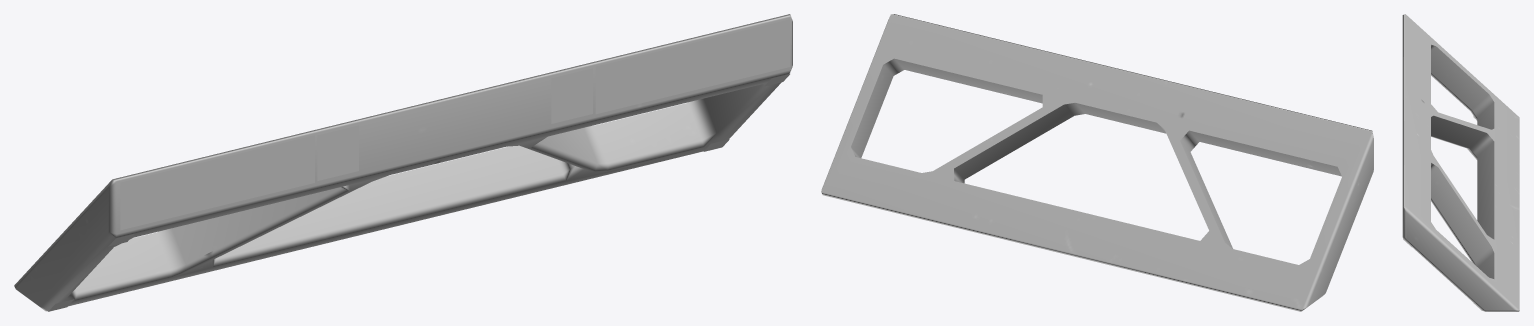
File: SM_WallGrid_Merged.fbx
The picture shows the model from 3 angles, left to right: view 1: azimuth 30°, elevation 25°; view 2: azimuth 150°, elevation 25°; view 3: azimuth 270°, elevation 25°; orthographic projection. The views are drawn at different scales.
Visible parts, largest first — view 1: SM_WallGrid_Merged_LOD0; view 2: SM_WallGrid_Merged_LOD0; view 3: SM_WallGrid_Merged_LOD0.
Part boxes in pixels (x1,y1,x2,y2): SM_WallGrid_Merged_LOD0: (14, 14, 792, 311); SM_WallGrid_Merged_LOD0: (821, 14, 1373, 311); SM_WallGrid_Merged_LOD0: (1402, 14, 1519, 311).
Size of the model in its own units: 86.01 by 22.02 by 22.02.
